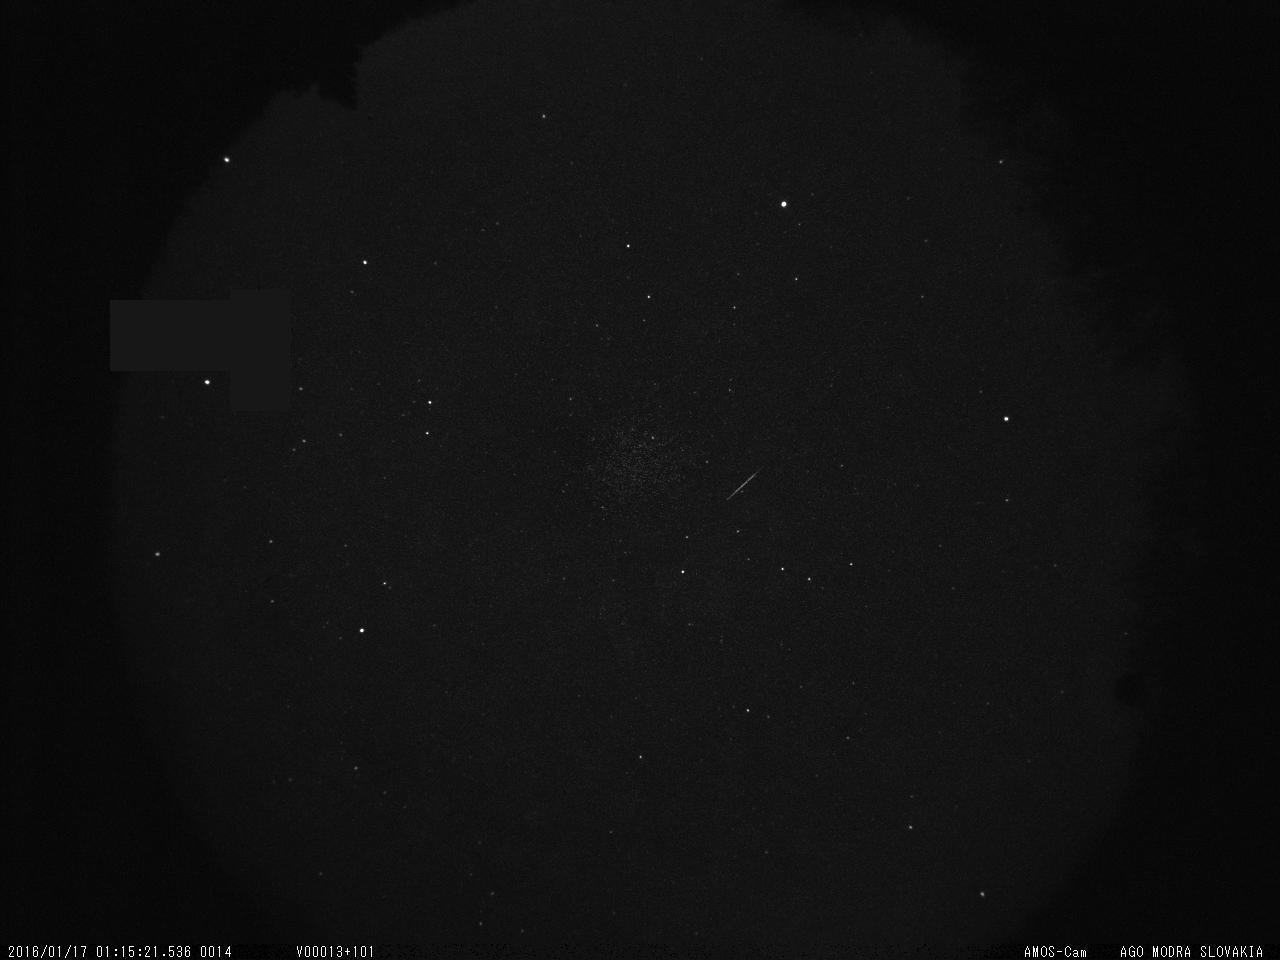meteor: (708, 466, 783, 518)
